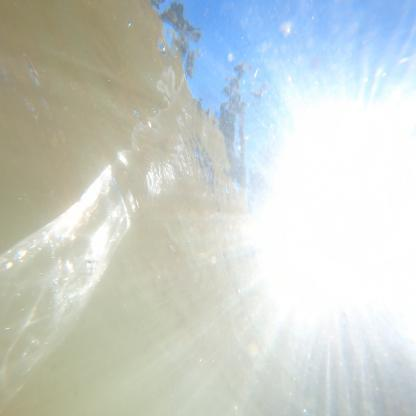Rác: (0, 127, 171, 416)
